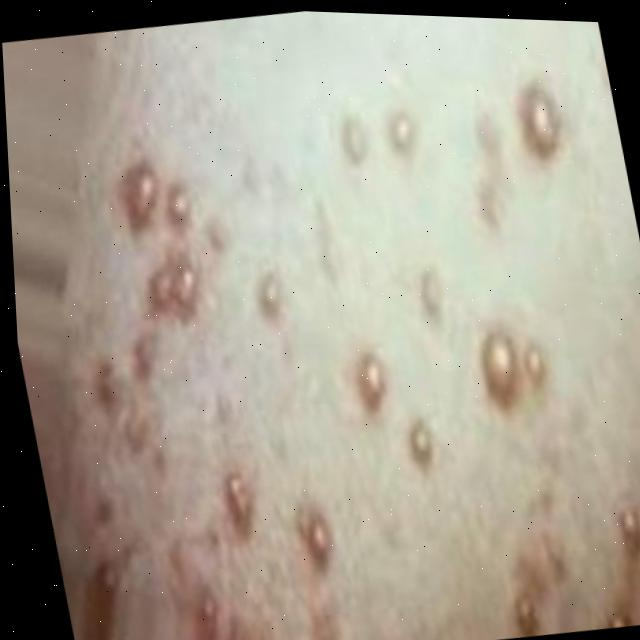Shingles: (108, 155, 166, 234), (473, 329, 527, 411), (510, 81, 566, 160), (348, 349, 392, 415), (218, 470, 261, 537), (295, 505, 337, 569), (335, 113, 372, 167), (166, 260, 204, 311), (250, 269, 287, 321), (413, 266, 448, 320), (143, 262, 183, 309), (403, 417, 439, 469), (86, 358, 121, 410), (117, 406, 154, 455), (383, 108, 420, 156), (123, 333, 158, 383), (159, 180, 195, 228), (517, 341, 551, 389), (508, 594, 542, 639), (614, 504, 640, 552), (196, 591, 221, 624), (597, 612, 632, 630)
